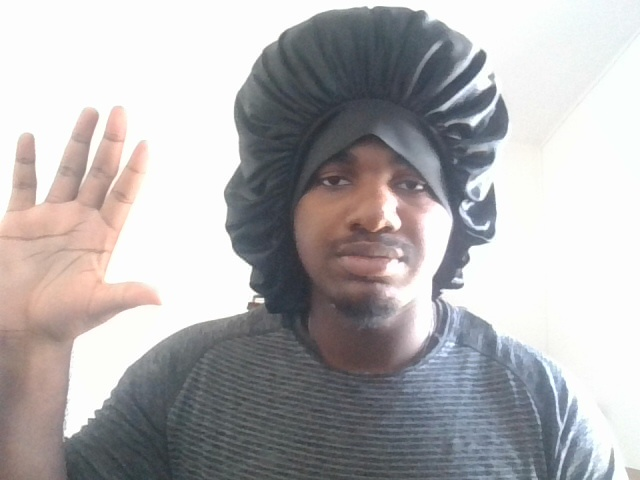Hello: (1, 98, 170, 342)
